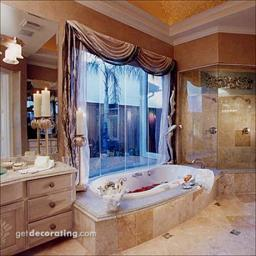Ducha: (178, 67, 255, 194)
Ventana: (70, 37, 170, 165)
